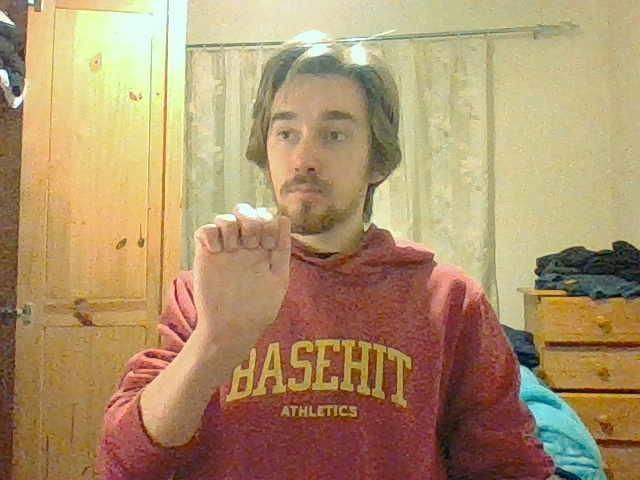your: (188, 202, 292, 324)
